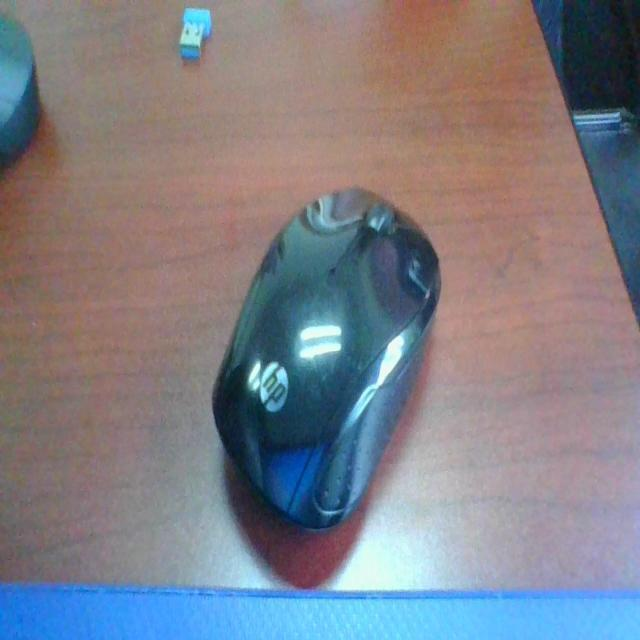Mouse: (206, 164, 452, 574)
